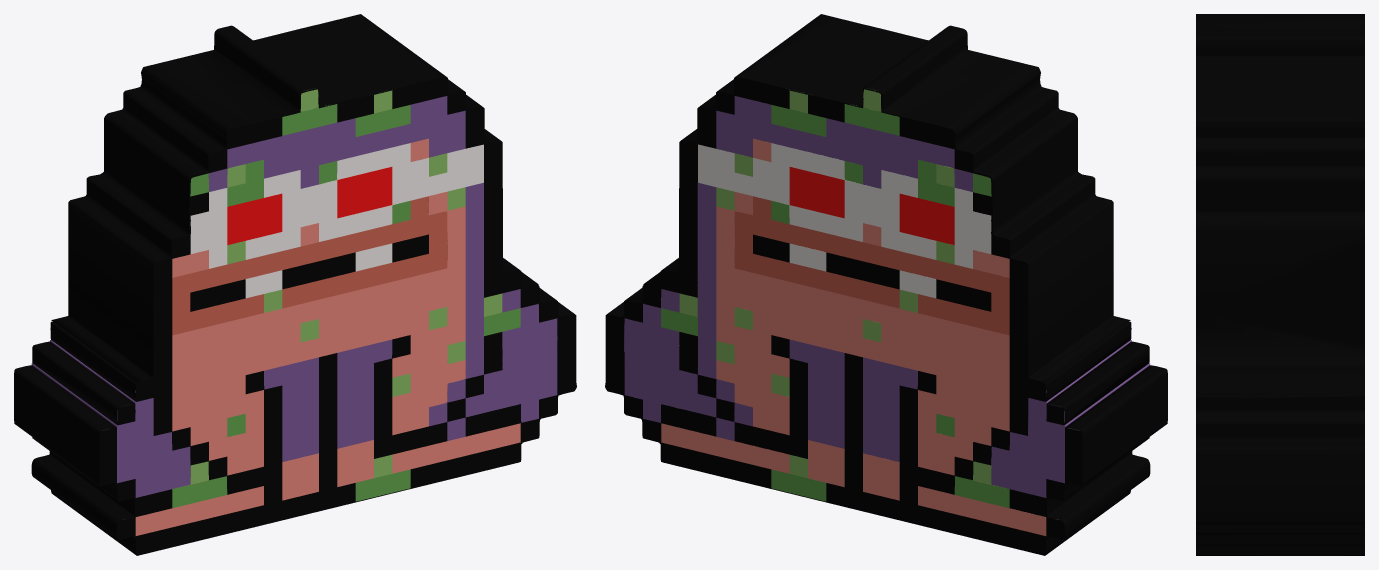
The model's file is Toadz_2298.glb.
3 renders of one model, left to right at view 1: azimuth 30°, elevation 25°; view 2: azimuth 150°, elevation 25°; view 3: azimuth 270°, elevation 25°, orthographic.
Visible parts, largest first — view 1: Curve; view 2: Curve; view 3: Curve.
Part boxes in pixels (x1,y1,x2,y2): Curve: (14, 14, 576, 555); Curve: (605, 14, 1167, 555); Curve: (1196, 14, 1364, 555).
Size of the model in its own units: 3.24 by 2.75 by 1.
